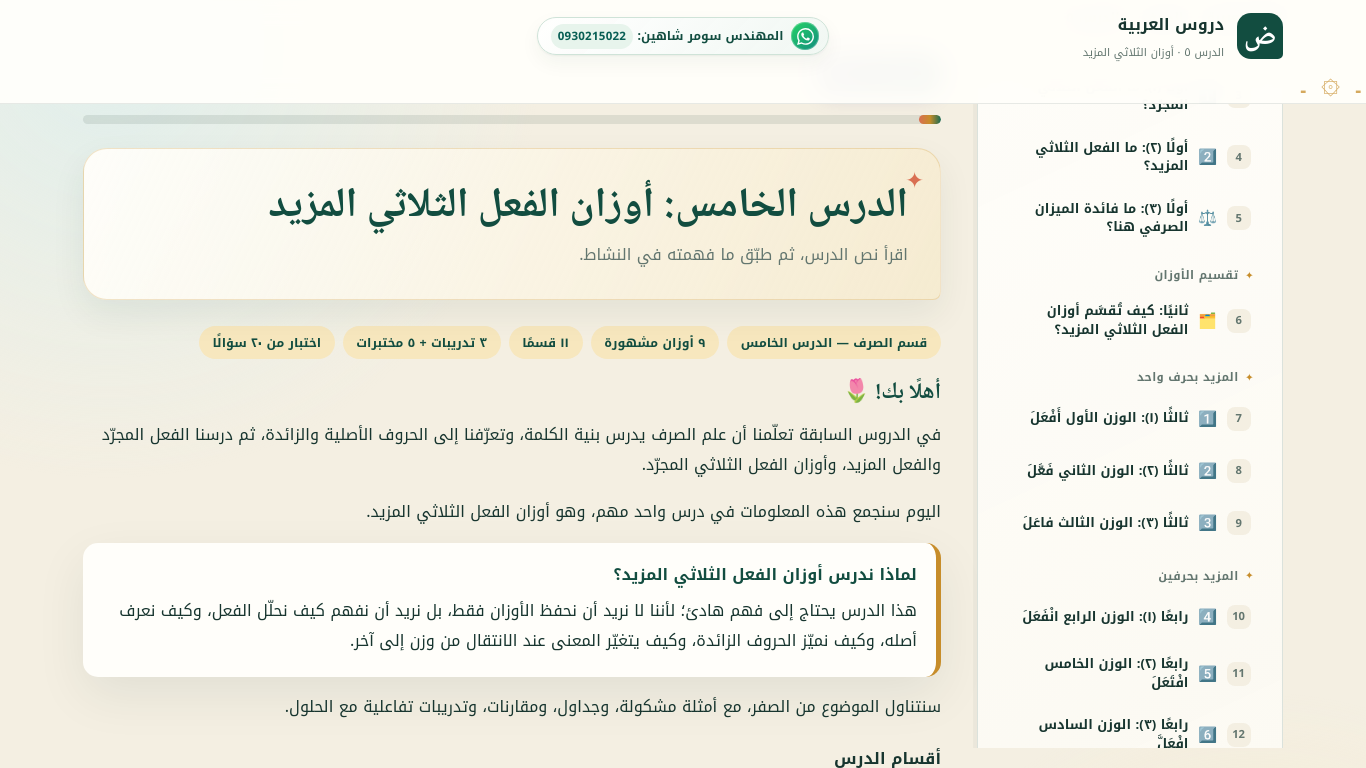
Test: Morphology Lesson 05 — Interactive Flow & Navigation › presents the audited pair سَلِمَ — أَسْلَمَ and the extra-letter clarification on the weight card
(page scrolled)
Click the button "7 1️⃣ ثالثًا (١): الوزن الأول أَفْعَلَ": (1130, 418) [998, 395, 1262, 442]
(page scrolled)
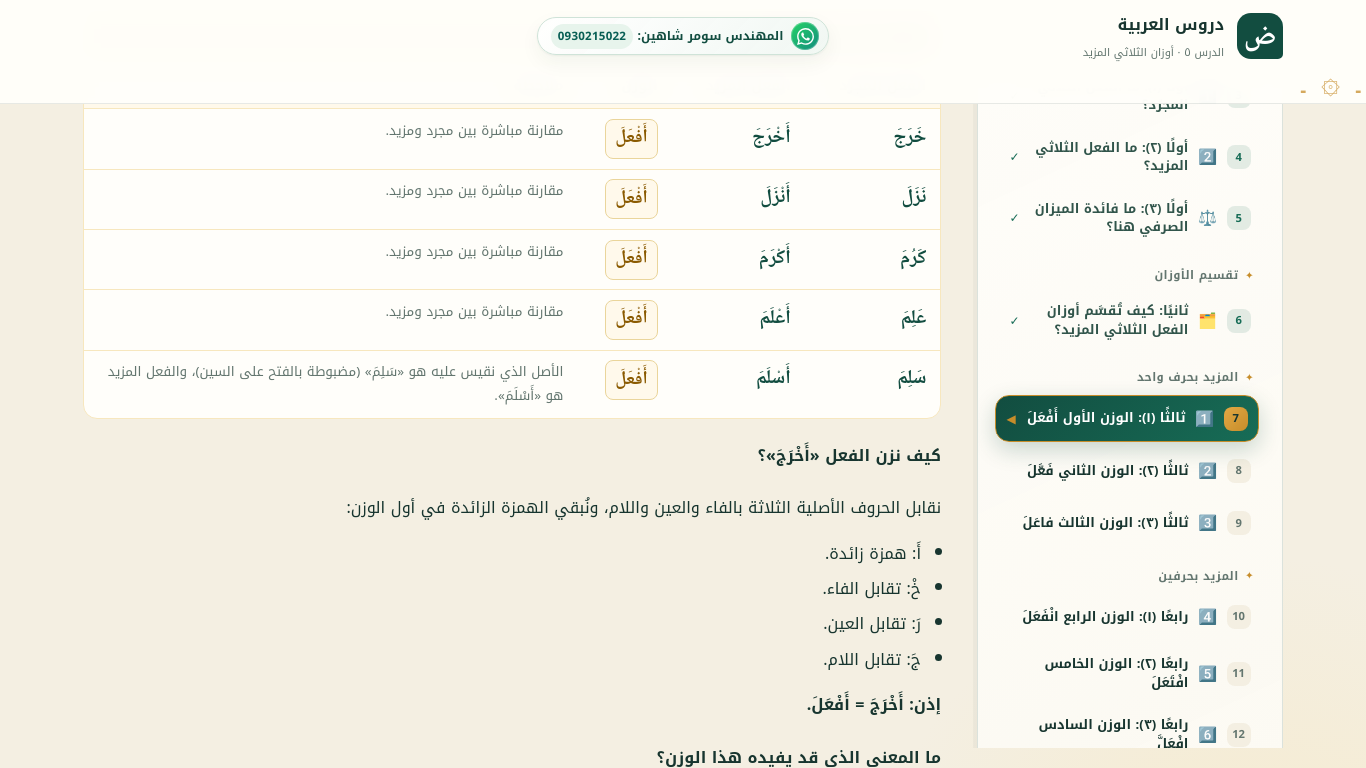
Expected: the text "سَلِمَ" is shown, [897, 360, 926, 397]
Expected: the text "أَسْلَمَ" is shown, [756, 360, 791, 397]
Expected: the text "مضبوطة بالفتح على السين" is shown, [108, 359, 563, 408]
